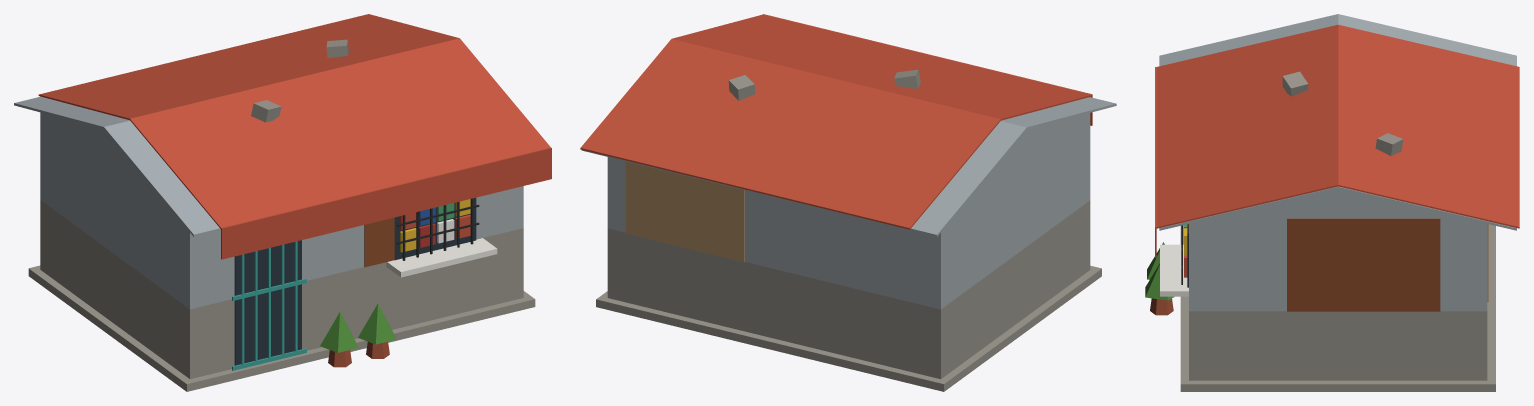
Rendered from BAY_I_TarpShack_B.glb.
The picture shows the model from 3 angles, left to right: view 1: azimuth 30°, elevation 25°; view 2: azimuth 150°, elevation 25°; view 3: azimuth 270°, elevation 25°; orthographic projection.
Visible parts, largest first — view 1: BAY_I_TarpShack_B; view 2: BAY_I_TarpShack_B; view 3: BAY_I_TarpShack_B.
Boxes of the visible parts, bbox=[...] form: BAY_I_TarpShack_B: bbox=[14, 14, 551, 391]; BAY_I_TarpShack_B: bbox=[580, 14, 1116, 391]; BAY_I_TarpShack_B: bbox=[1145, 14, 1519, 391].
Bounding box in the file's own units: 4.8 × 2.76 × 4.39.
1 material, 1 textured.
